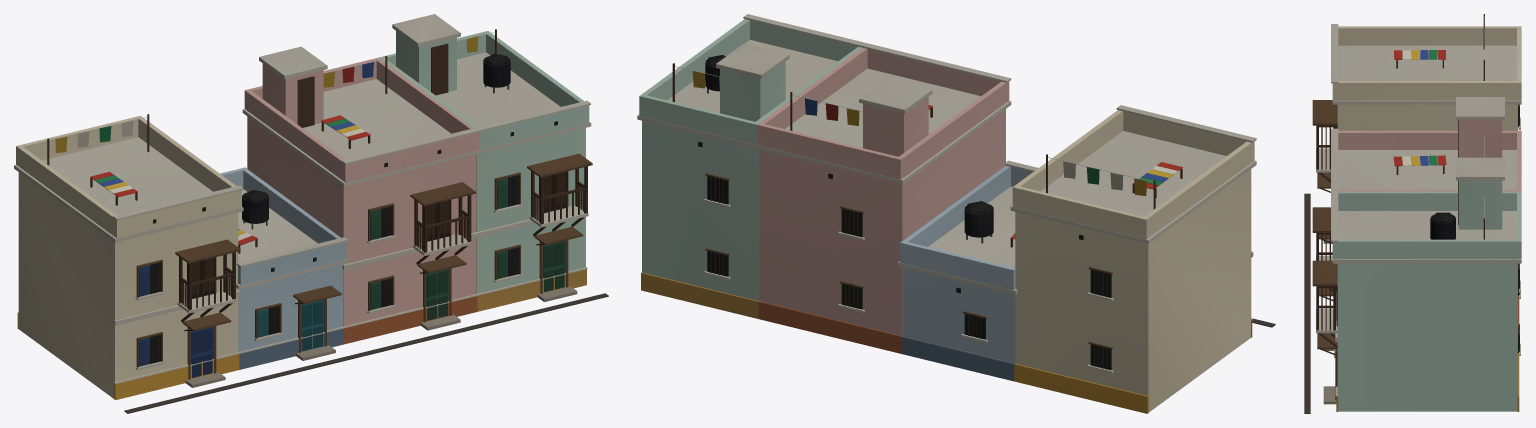
Rendered from abadi_row_a.glb.
The picture shows the model from 3 angles, left to right: view 1: azimuth 30°, elevation 25°; view 2: azimuth 150°, elevation 25°; view 3: azimuth 270°, elevation 25°; orthographic projection. The views are drawn at different scales.
Parts seen in each view (by area): view 1: hb_main; view 2: hb_main; view 3: hb_main.
Part boxes in pixels (left/top/right/bottom): hb_main: left=14, top=14, right=608, bottom=413; hb_main: left=637, top=14, right=1275, bottom=413; hb_main: left=1304, top=14, right=1521, bottom=413.
Size of the model in its own units: 20.2 by 8.85 by 8.45.
